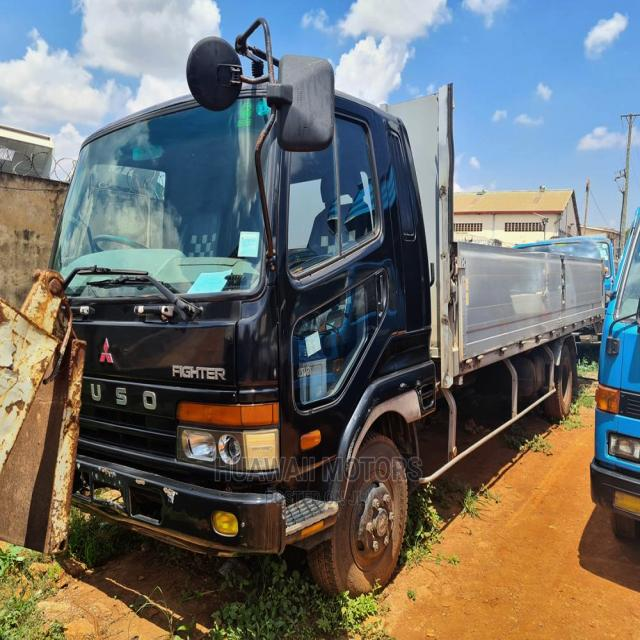truck: (38, 21, 605, 597)
